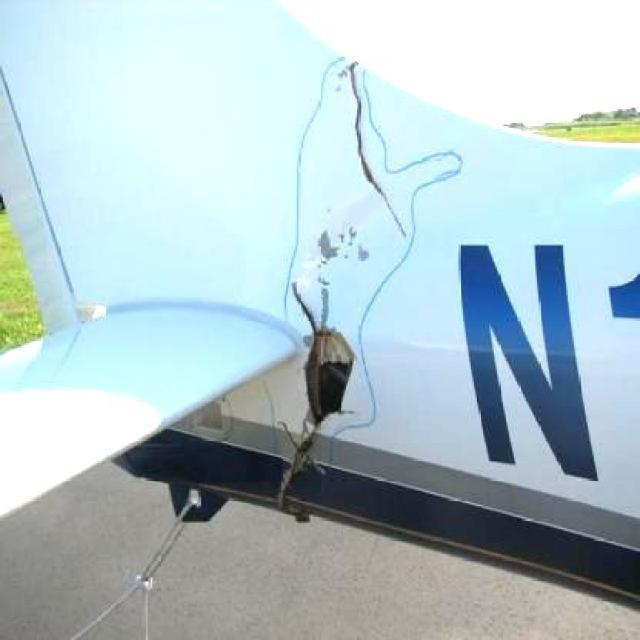crack: (341, 75, 394, 240)
